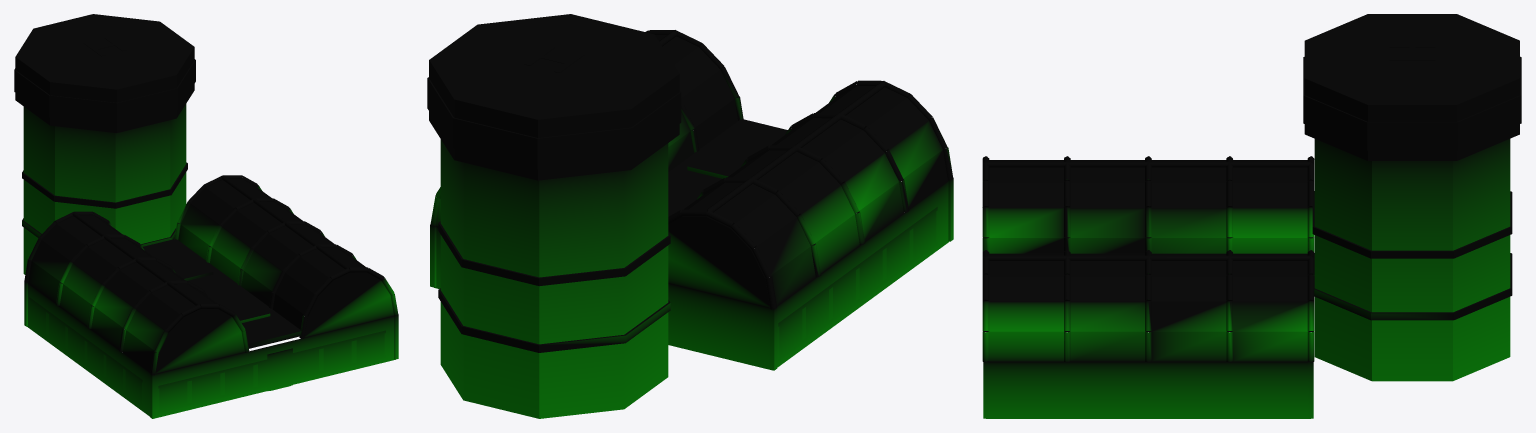
The picture shows the model from 3 angles, left to right: view 1: azimuth 30°, elevation 25°; view 2: azimuth 150°, elevation 25°; view 3: azimuth 270°, elevation 25°; orthographic projection. The views are drawn at different scales.
Parts seen in each view (by area): view 1: lod0; view 2: lod0; view 3: lod0.
Part boxes in pixels (<box>): lod0: <box>14,14,398,418</box>; lod0: <box>427,14,953,418</box>; lod0: <box>982,14,1521,418</box>.
Size of what is drawn, in the model's own units: 21.08 by 18.13 by 30.84.
